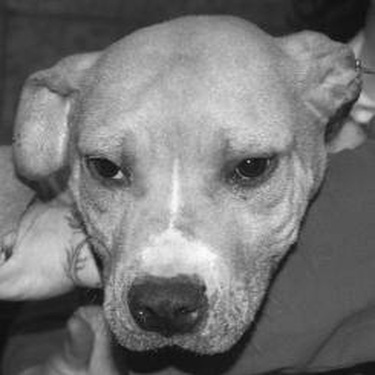dog: (1, 12, 370, 372)
